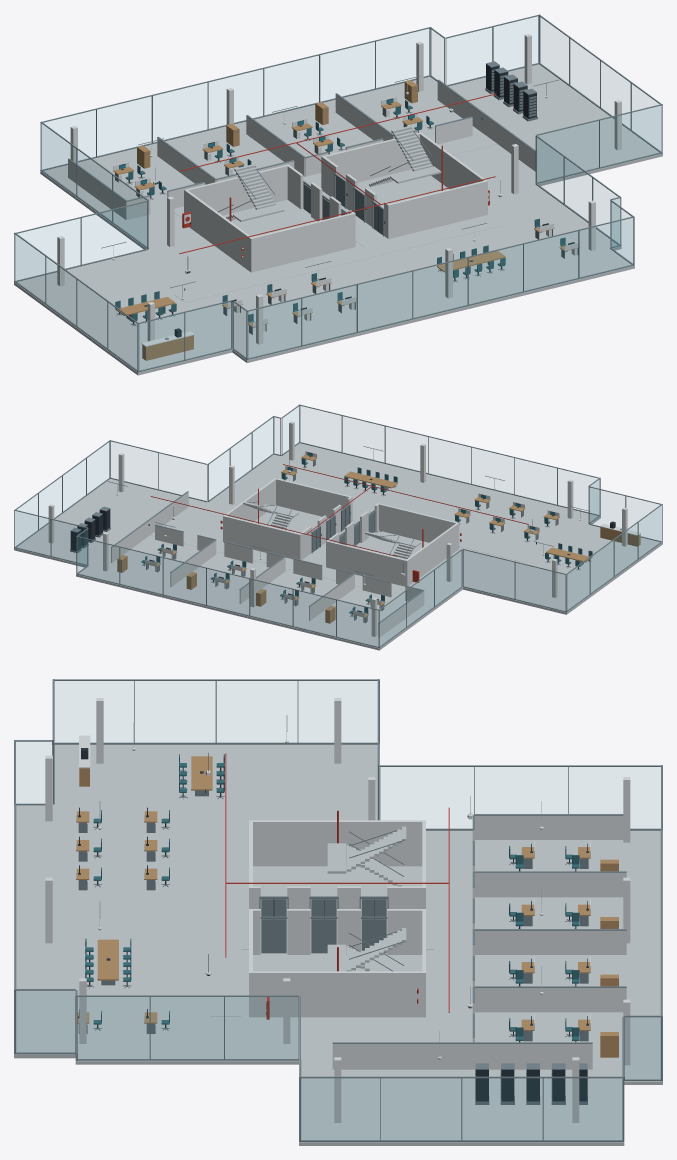
3 views of the same model, one above another, from view 1: azimuth 30°, elevation 25°; view 2: azimuth 150°, elevation 25°; view 3: azimuth 270°, elevation 25° (orthographic). The views are drawn at different scales.
Visible parts, largest first — view 1: T1_F11_SLAB, T1_F11_WHITE, T1_F11_GLASS_S, T1_F11_GLASS_N, T1_F11_STEEL, T1_F11_GLASS_W, T1_F11_GLASS_E, T1_F11_WOOD, T1_F11_FABRIC, T1_F11_DARK, T1_F11_RED; view 2: T1_F11_SLAB, T1_F11_WHITE, T1_F11_GLASS_N, T1_F11_GLASS_S, T1_F11_STEEL, T1_F11_GLASS_W, T1_F11_GLASS_E, T1_F11_WOOD, T1_F11_FABRIC, T1_F11_DARK, T1_F11_RED; view 3: T1_F11_SLAB, T1_F11_WHITE, T1_F11_GLASS_E, T1_F11_GLASS_W, T1_F11_STEEL, T1_F11_WOOD, T1_F11_FABRIC, T1_F11_DARK, T1_F11_RED.
Boxes of the visible parts, x1,y1,x2,y2 form: T1_F11_SLAB: [14, 64, 662, 375]; T1_F11_WHITE: [57, 34, 621, 346]; T1_F11_GLASS_S: [140, 106, 660, 370]; T1_F11_GLASS_N: [19, 17, 538, 267]; T1_F11_STEEL: [14, 14, 662, 372]; T1_F11_GLASS_W: [15, 125, 245, 369]; T1_F11_GLASS_E: [431, 18, 657, 243]; T1_F11_WOOD: [113, 80, 580, 360]; T1_F11_FABRIC: [115, 100, 566, 322]; T1_F11_DARK: [119, 64, 574, 337]; T1_F11_RED: [179, 93, 496, 258]; T1_F11_SLAB: [14, 443, 662, 650]; T1_F11_WHITE: [48, 421, 641, 637]; T1_F11_GLASS_N: [15, 512, 564, 646]; T1_F11_GLASS_S: [110, 406, 657, 527]; T1_F11_STEEL: [14, 404, 662, 648]; T1_F11_GLASS_W: [380, 480, 661, 645]; T1_F11_GLASS_E: [18, 408, 298, 536]; T1_F11_WOOD: [117, 455, 640, 623]; T1_F11_FABRIC: [141, 458, 592, 613]; T1_F11_DARK: [70, 452, 615, 615]; T1_F11_RED: [150, 464, 528, 582]; T1_F11_SLAB: [14, 744, 662, 1145]; T1_F11_WHITE: [45, 698, 630, 1122]; T1_F11_GLASS_E: [16, 991, 660, 1139]; T1_F11_GLASS_W: [16, 681, 660, 828]; T1_F11_STEEL: [14, 679, 662, 1141]; T1_F11_WOOD: [76, 756, 618, 1057]; T1_F11_FABRIC: [85, 754, 579, 1040]; T1_F11_DARK: [78, 748, 588, 1101]; T1_F11_RED: [225, 753, 449, 1019].
Size of the model in its own units: 55.47 by 4.5 by 38.19.
